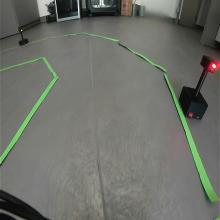red: (200, 54, 217, 73)
